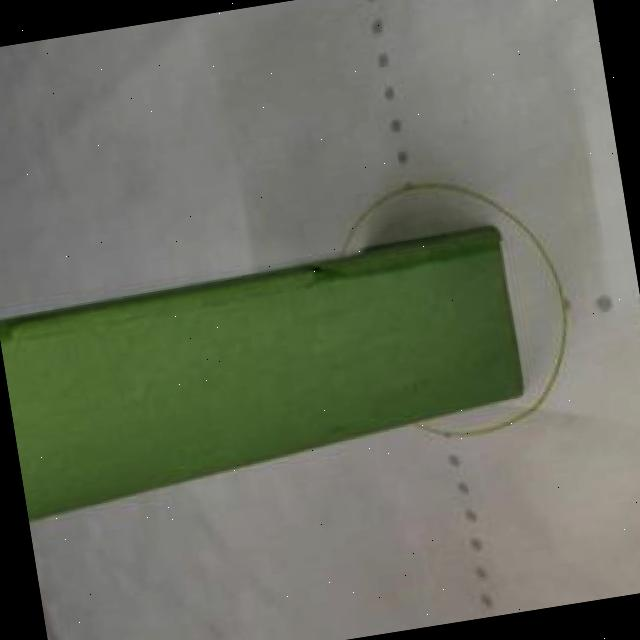greenbox: (0, 235, 533, 519)
